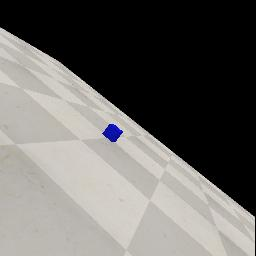box: (102, 124, 123, 142)
